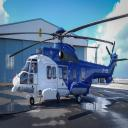helicopter: (7, 17, 127, 115)
